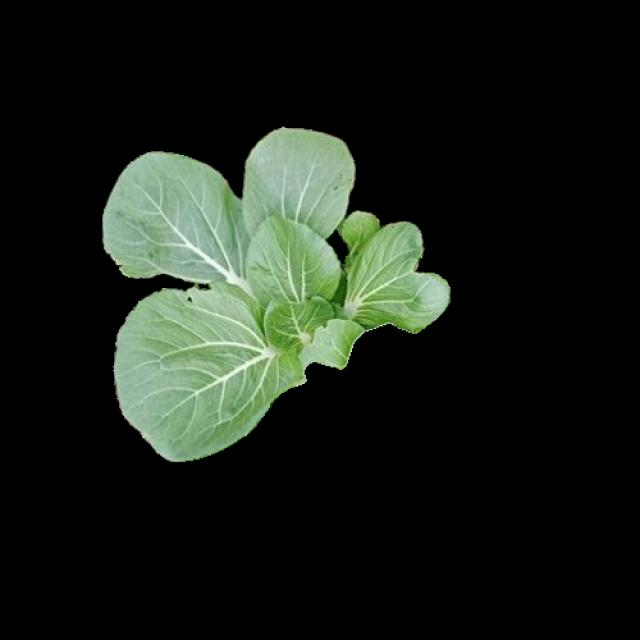healthy: (99, 127, 448, 457)
not-mature: (101, 130, 451, 460)
